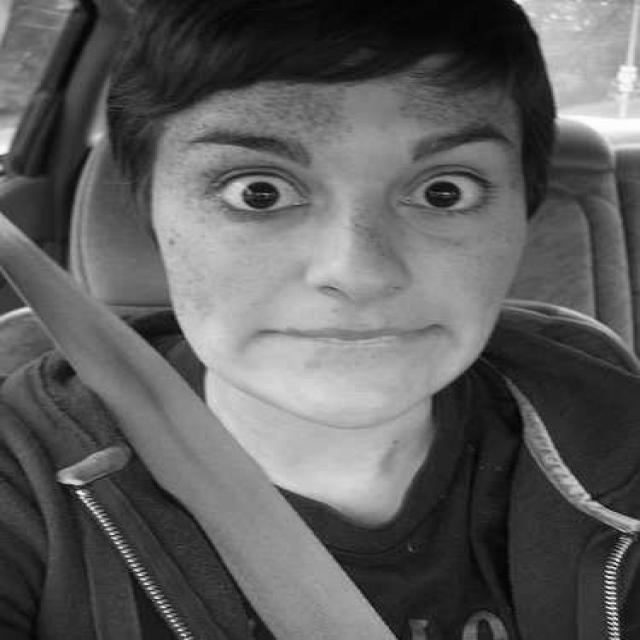Seatbelt: (46, 289, 392, 640)
